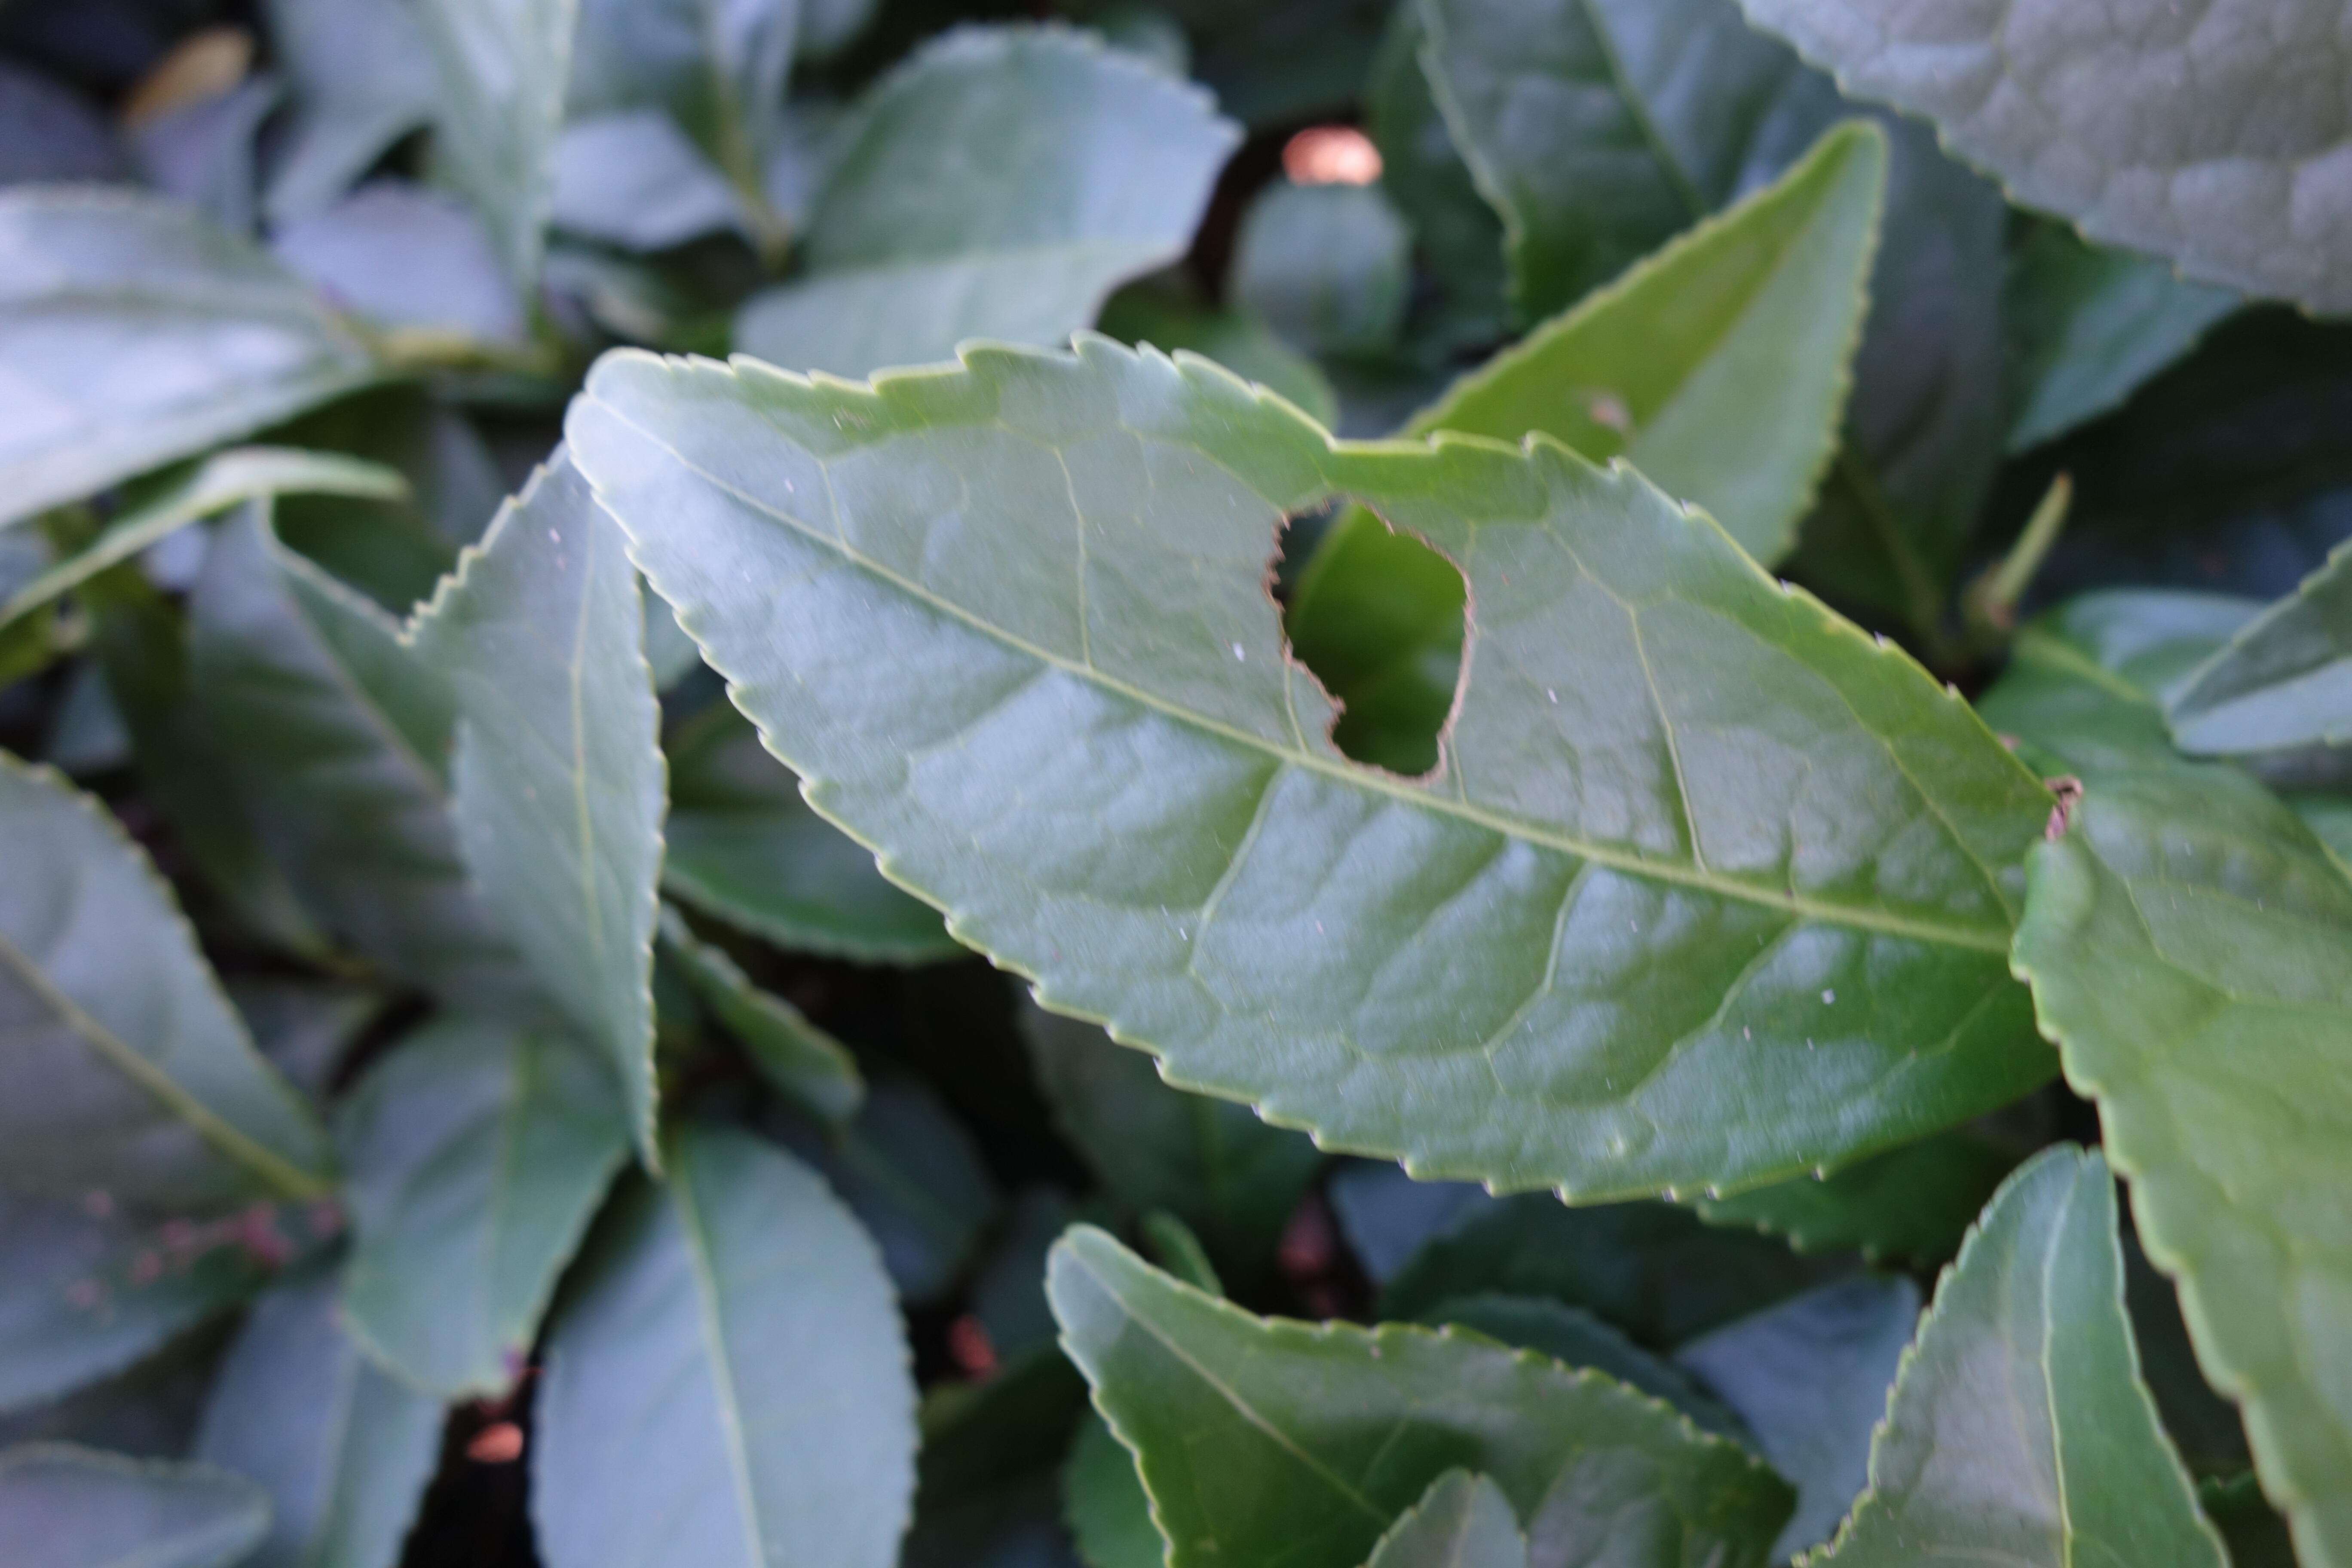chihuo_low: (556, 329, 2058, 1206)
